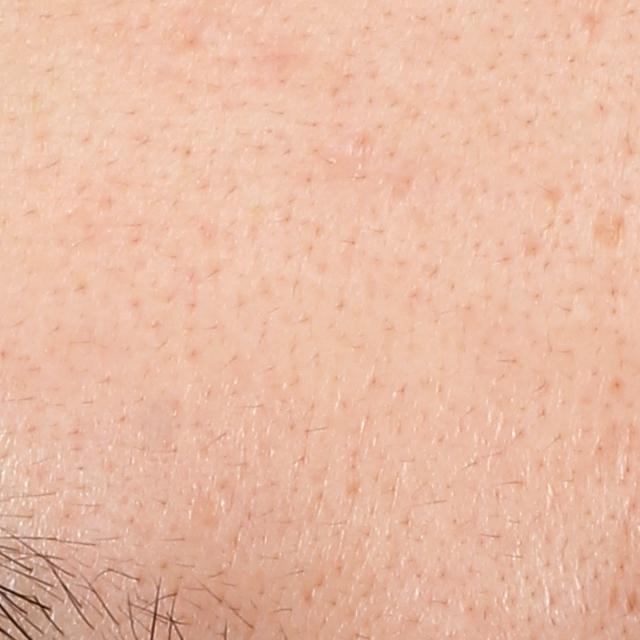atrophic_scar: (586, 205, 627, 254), (575, 8, 610, 55), (378, 166, 414, 210), (539, 181, 571, 219)
